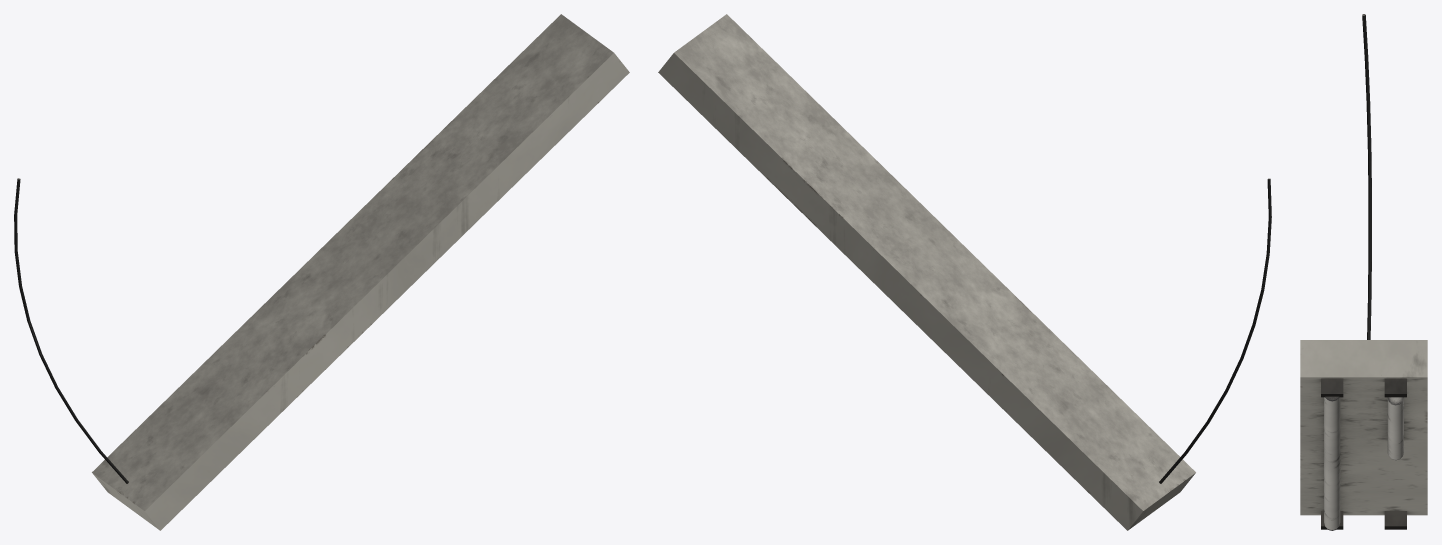
File: SM_FluorescentLight_Hanging.fbx
3 renders of one model, left to right at view 1: azimuth 30°, elevation 25°; view 2: azimuth 150°, elevation 25°; view 3: azimuth 270°, elevation 25°, orthographic. The views are drawn at different scales.
Parts seen in each view (by area): view 1: SM_FluorescentLight_Hanging; view 2: SM_FluorescentLight_Hanging; view 3: SM_FluorescentLight_Hanging.
Boxes of the visible parts, <box> form: SM_FluorescentLight_Hanging: <box>14,14,629,530</box>; SM_FluorescentLight_Hanging: <box>658,14,1271,530</box>; SM_FluorescentLight_Hanging: <box>1300,14,1427,530</box>.
Size of the model in its own units: 1.29 by 0.7805 by 0.2.
Materials: 1 (1 with a texture image).
